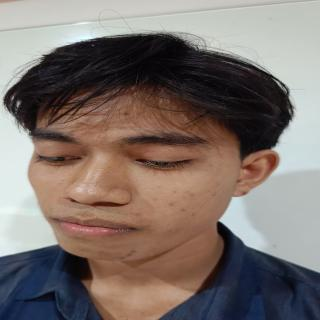Sedih: (17, 84, 253, 267)
